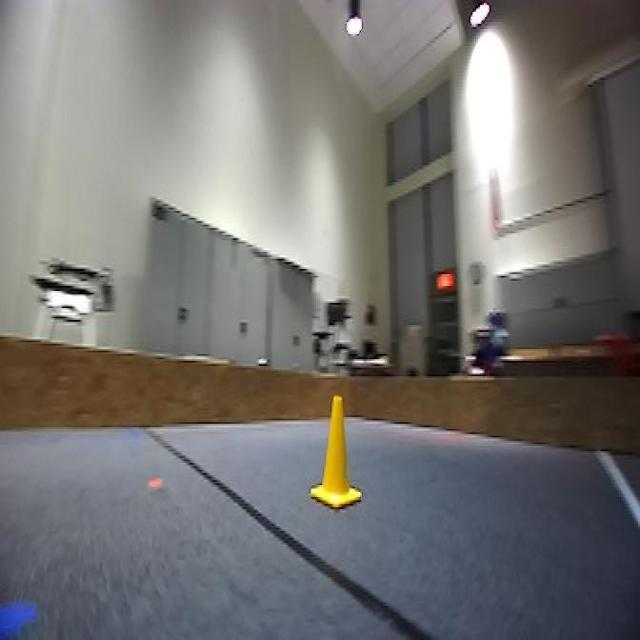frc_cone: (312, 402, 360, 517)
